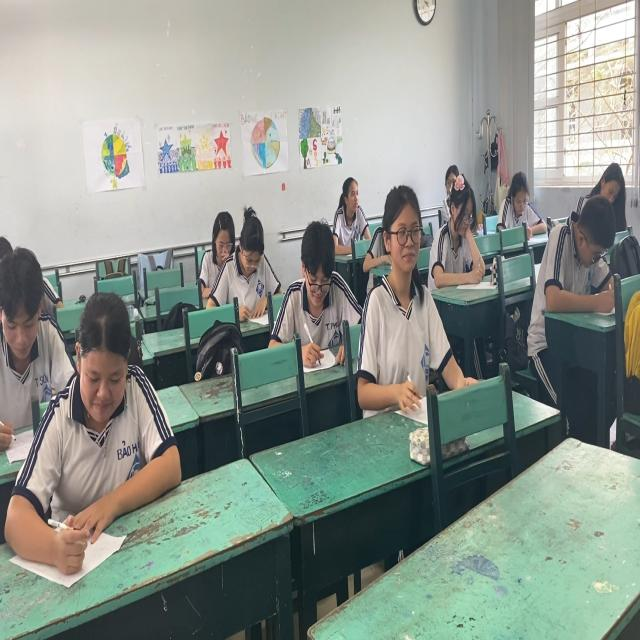not_cheating: (46, 290, 179, 500), (363, 178, 448, 399), (540, 190, 620, 316), (278, 218, 354, 346), (428, 158, 490, 291), (0, 247, 57, 372), (224, 200, 281, 310), (498, 164, 542, 228), (326, 174, 372, 234), (198, 205, 237, 274), (592, 158, 628, 228)
